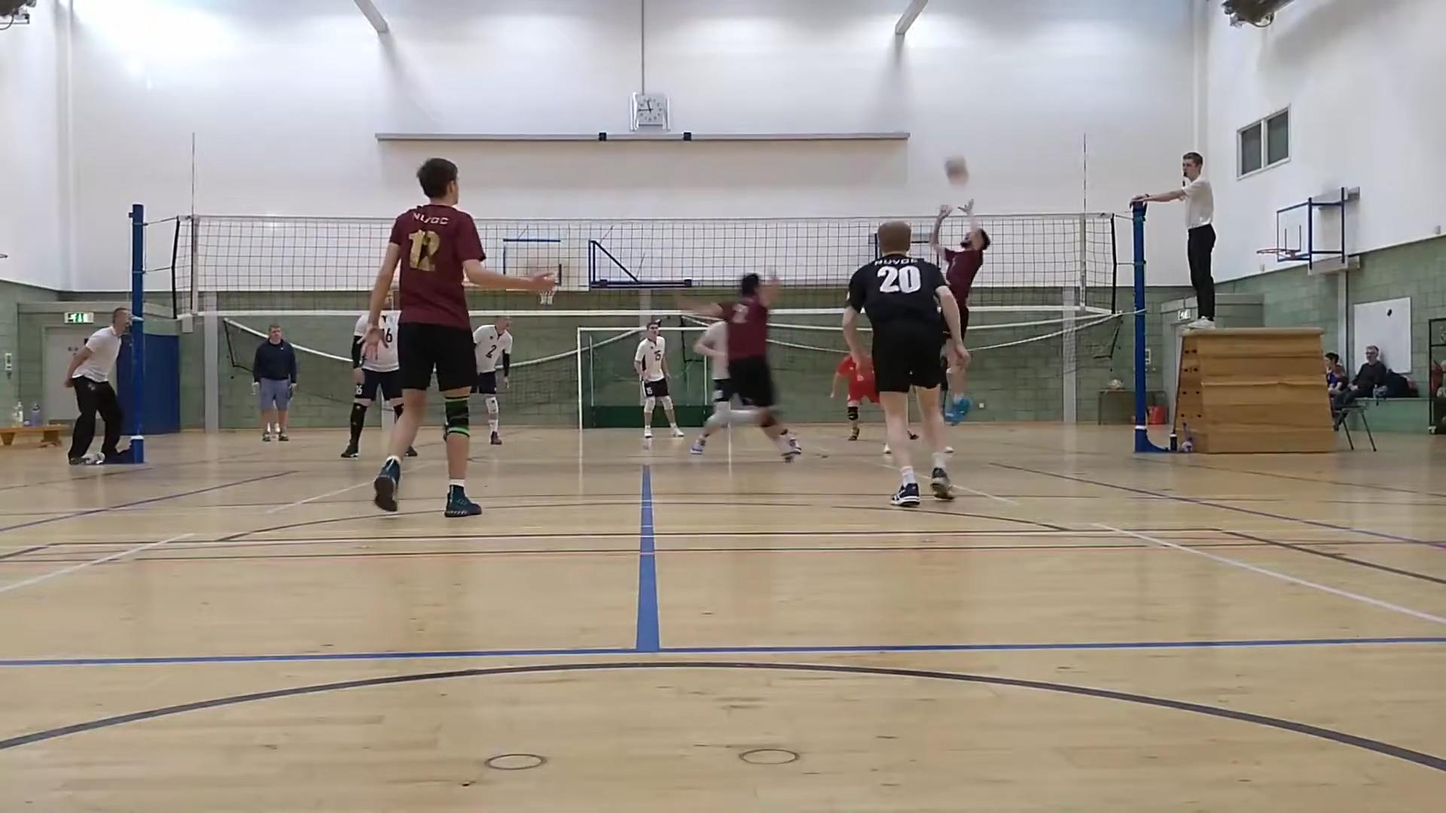alzata: (919, 201, 998, 416)
